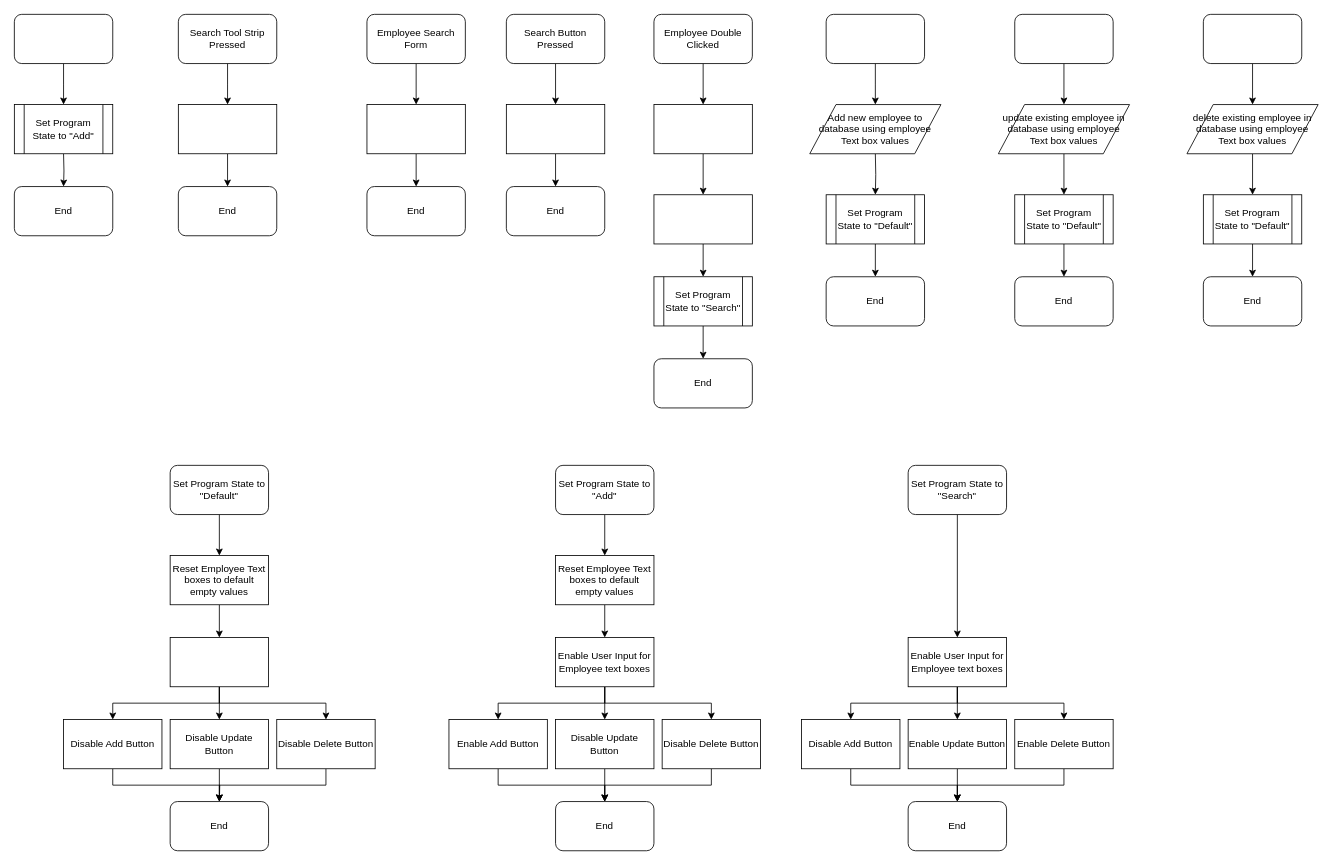
This 1333x865 diagram has some shape labels left out. The centre of each missing label's shape, as x and y in pixels:
"Add Button Pressed" goes at (875,39).
"Add Tool Strip Pressed" goes at (63,39).
"Close Employee Search Form" goes at (702,219).
"Delete Button Pressed" goes at (1252,39).
"Disable User Input for Employee text boxes" goes at (219,662).
"Display all employees from database" goes at (415,129).
"Display all employees from database based on search parameters" goes at (555,129).
"Open Employee Search Form" goes at (227,129).
"Send Employee Data to Employee Form" goes at (702,129).
"Update Button Pressed" goes at (1063,39).
